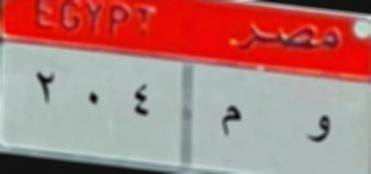0: (82, 81, 108, 114)
2: (28, 67, 60, 106)
4: (126, 83, 156, 127)
meem: (208, 102, 249, 142)
waw: (300, 104, 340, 152)
